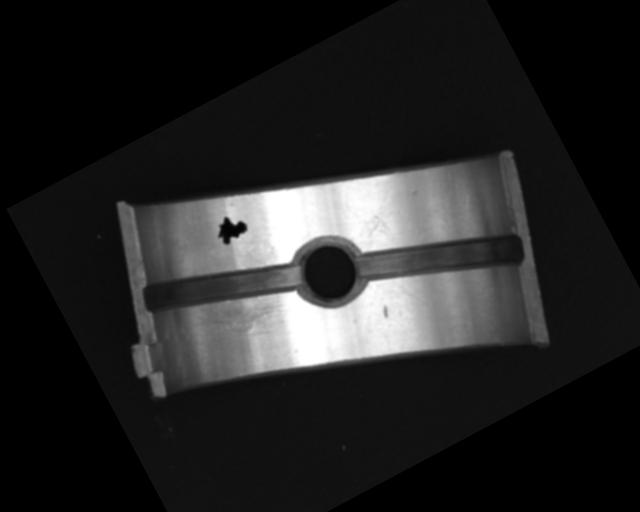blot: (209, 208, 251, 248)
bruise: (378, 303, 391, 320)
gap: (353, 187, 527, 330), (137, 218, 306, 352)
hole: (284, 225, 371, 314)
scratch: (184, 271, 290, 357)
